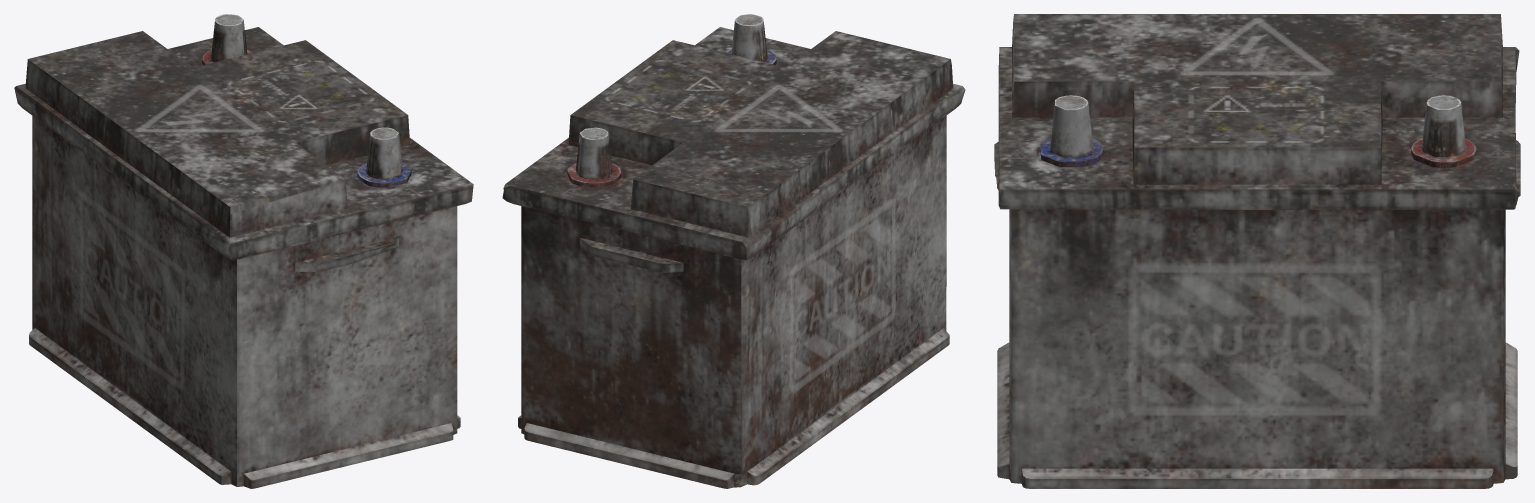
The model's file is car_battery.fbx.
The picture shows the model from 3 angles, left to right: view 1: azimuth 30°, elevation 25°; view 2: azimuth 150°, elevation 25°; view 3: azimuth 270°, elevation 25°; orthographic projection. The views are drawn at different scales.
Visible parts, largest first — view 1: car_battery; view 2: car_battery; view 3: car_battery.
Boxes of the visible parts, x1=… form: car_battery: x1=14, y1=14, x2=473, y2=488; car_battery: x1=502, y1=14, x2=965, y2=488; car_battery: x1=994, y1=14, x2=1520, y2=488.
Bounding box in the file's own units: 36.17 × 40.86 × 55.35.
